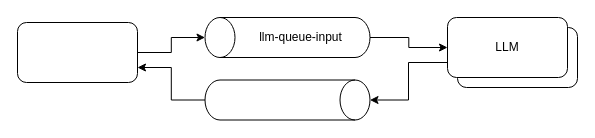
Some shapes in this 595 by 138 pixel diagram are drawn without their labels. Here are the shapes that lost their labels. From the top down, the box of each, then its label:
(16, 22, 138, 82): API
(204, 79, 370, 120): llm-queue-output
